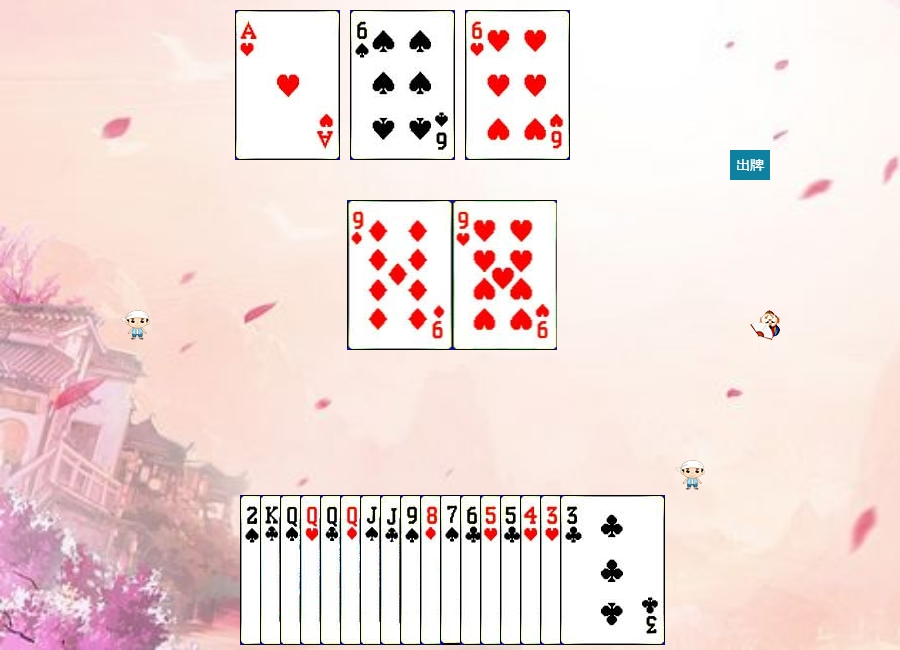11~2: (380, 495, 485, 645)
11~4: (360, 495, 465, 645)
12~1: (340, 495, 445, 645)
12~2: (320, 495, 425, 645)
12~3: (300, 495, 405, 645)
12~4: (280, 495, 385, 645)
13~2: (260, 495, 365, 645)
14~3: (235, 10, 340, 160)
15~4: (240, 495, 345, 645)
3~2: (560, 495, 665, 645)
3~3: (540, 495, 645, 645)
4~3: (520, 495, 625, 645)
5~2: (500, 495, 605, 645)
5~3: (480, 495, 585, 645)
6~2: (460, 495, 565, 645)
6~3: (465, 10, 570, 160)
6~4: (350, 10, 455, 160)
7~4: (440, 495, 545, 645)
8~1: (420, 495, 525, 645)
9~1: (348, 200, 453, 350)
9~3: (453, 200, 558, 350)
9~4: (400, 495, 505, 645)
